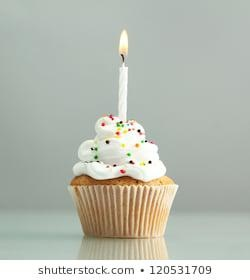fire: (117, 26, 129, 61)
